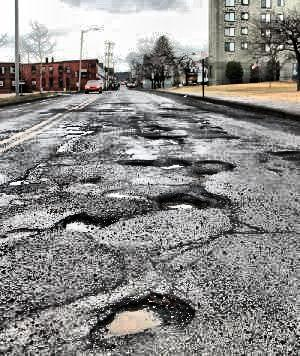pothole: (86, 290, 196, 340), (60, 211, 117, 233), (156, 190, 209, 211), (194, 154, 236, 178), (8, 168, 42, 188), (200, 120, 230, 142), (158, 158, 190, 170), (62, 124, 94, 135), (269, 147, 300, 157), (142, 132, 180, 140), (122, 157, 155, 166)
